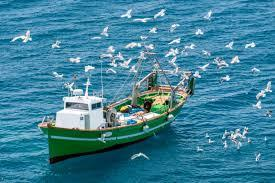fishing boat: (34, 51, 196, 165)
